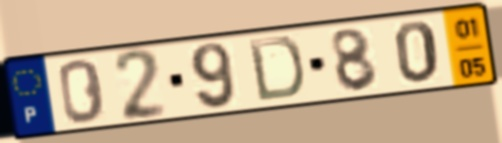0: (57, 56, 106, 127), (391, 19, 441, 87)
2: (112, 44, 171, 128)
8: (329, 26, 382, 93)
9: (190, 39, 242, 112)
D: (245, 35, 307, 105)
